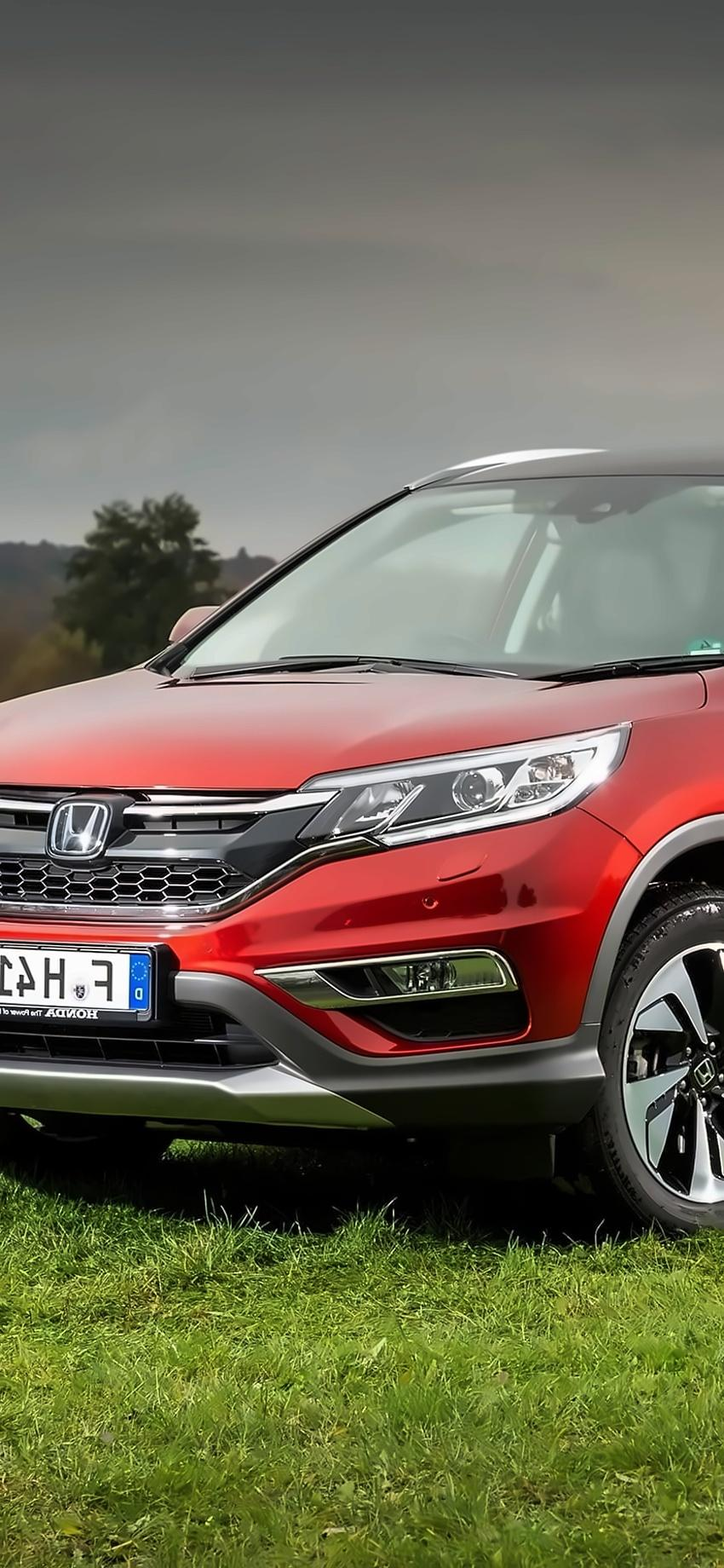Car hood: (0, 662, 707, 798)
Fender - -F-L-: (575, 660, 724, 862)
Front bumper: (0, 798, 658, 1140)
Headlight - -L-: (291, 711, 648, 863)
Side mirror - -R-: (160, 592, 236, 656)
